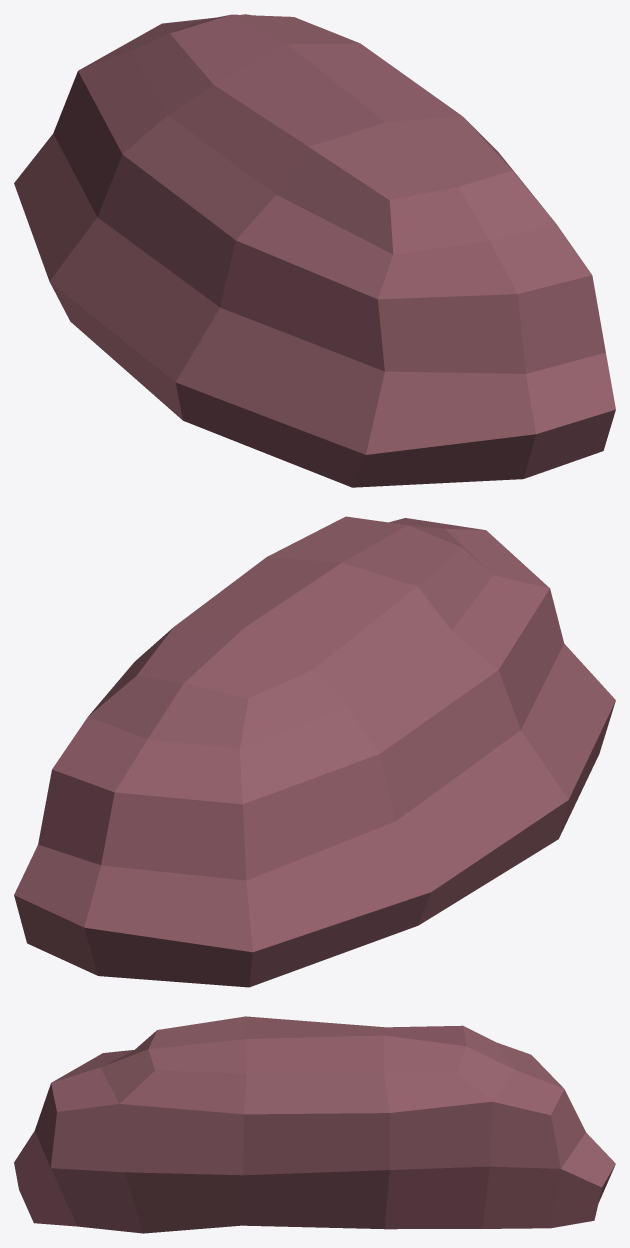
The model's file is Rock_01_Lod1.fbx.
3 renders of one model, top to bottom at view 1: azimuth 30°, elevation 25°; view 2: azimuth 150°, elevation 25°; view 3: azimuth 270°, elevation 25°, orthographic. The views are drawn at different scales.
Parts seen in each view (by area): view 1: Rock_01_Lod1; view 2: Rock_01_Lod1; view 3: Rock_01_Lod1.
Boxes of the visible parts, x1=… form: Rock_01_Lod1: x1=14, y1=14, x2=615, y2=487; Rock_01_Lod1: x1=14, y1=516, x2=615, y2=987; Rock_01_Lod1: x1=14, y1=1016, x2=615, y2=1233.
Bounding box in the file's own units: 157 × 115 × 349.
